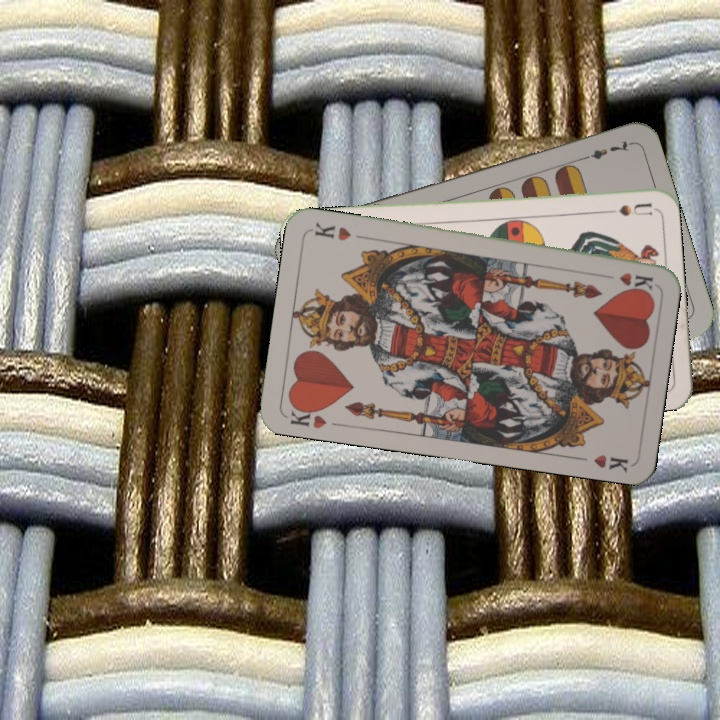E7: (576, 137, 634, 164)
HK: (283, 400, 329, 431), (596, 268, 656, 291)
SU: (594, 198, 653, 219)
